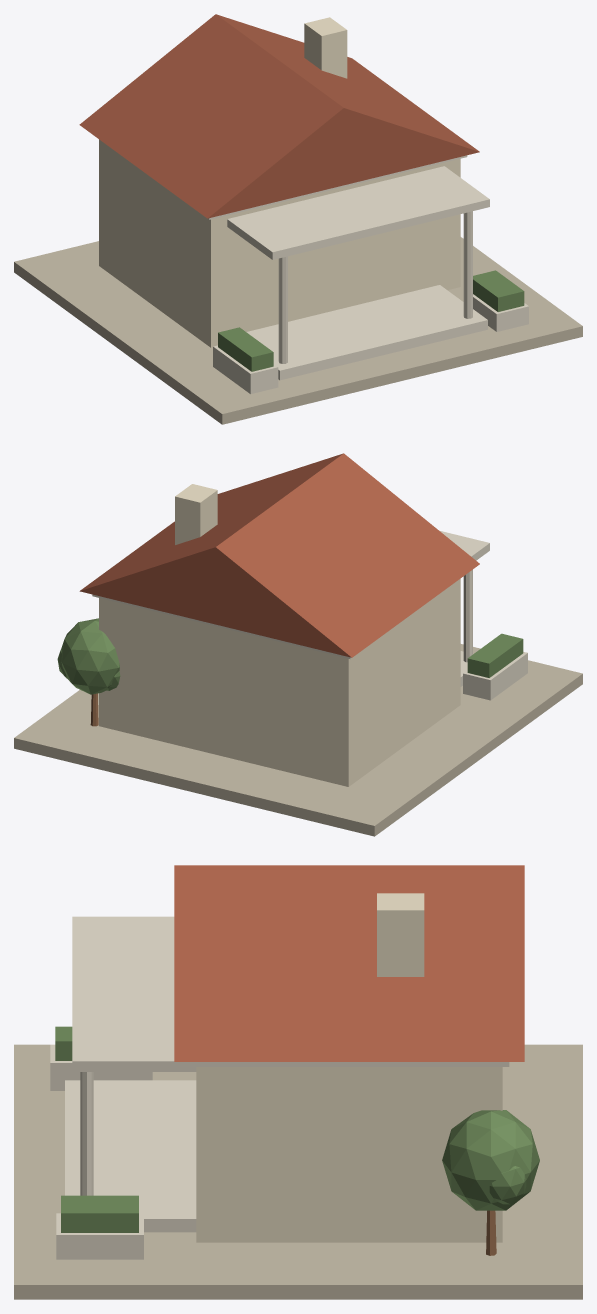
The model's file is cottage_lod.glb.
3 views of the same model, one above another, from view 1: azimuth 30°, elevation 25°; view 2: azimuth 150°, elevation 25°; view 3: azimuth 270°, elevation 25° (orthographic). The views are drawn at different scales.
Parts seen in each view (by area): view 1: cottage_Gable_Roof.002, cottage_Building_Volume.002, cottage_Site_Paving.002, cottage_Porch_Canopy.002, cottage_Porch_Deck.002, cottage_Chimney.002, cottage_Hedge.004, cottage_Raised_Planter.004, cottage_Hedge.005, cottage_Raised_Planter.005, cottage_Porch_Column.005, cottage_Porch_Column.004 (+1 smaller); view 2: cottage_Building_Volume.002, cottage_Gable_Roof.002, cottage_Site_Paving.002, cottage_Tree_Crown.006, cottage_Chimney.002, cottage_Hedge.004, cottage_Raised_Planter.004, cottage_Porch_Column.004, cottage_Roof_Coping.002, cottage_Porch_Canopy.002; view 3: cottage_Gable_Roof.002, cottage_Site_Paving.002, cottage_Building_Volume.002, cottage_Porch_Canopy.002, cottage_Porch_Deck.002, cottage_Tree_Crown.006, cottage_Chimney.002, cottage_Hedge.005, cottage_Raised_Planter.005, cottage_Porch_Column.005, cottage_Roof_Coping.002, cottage_Raised_Planter.004 (+2 smaller).
Boxes of the visible parts, x1,y1,x2,y2 form: cottage_Gable_Roof.002: [79, 14, 479, 218]; cottage_Building_Volume.002: [99, 139, 460, 347]; cottage_Site_Paving.002: [14, 237, 582, 424]; cottage_Porch_Canopy.002: [227, 166, 489, 259]; cottage_Porch_Deck.002: [246, 285, 487, 380]; cottage_Chimney.002: [304, 17, 347, 78]; cottage_Hedge.004: [218, 327, 273, 371]; cottage_Raised_Planter.004: [213, 345, 278, 394]; cottage_Hedge.005: [473, 270, 524, 311]; cottage_Raised_Planter.005: [473, 294, 528, 331]; cottage_Porch_Column.005: [463, 211, 472, 318]; cottage_Porch_Column.004: [278, 256, 287, 363]; cottage_Building_Volume.002: [99, 579, 460, 786]; cottage_Gable_Roof.002: [79, 453, 479, 657]; cottage_Site_Paving.002: [14, 644, 582, 836]; cottage_Tree_Crown.006: [61, 618, 119, 694]; cottage_Chimney.002: [175, 484, 217, 544]; cottage_Hedge.004: [467, 633, 523, 677]; cottage_Raised_Planter.004: [463, 652, 527, 700]; cottage_Porch_Column.004: [463, 569, 472, 662]; cottage_Roof_Coping.002: [92, 594, 351, 658]; cottage_Porch_Canopy.002: [439, 530, 489, 560]; cottage_Gable_Roof.002: [174, 865, 524, 1061]; cottage_Site_Paving.002: [14, 1044, 582, 1299]; cottage_Building_Volume.002: [196, 1067, 502, 1242]; cottage_Porch_Canopy.002: [72, 916, 196, 1071]; cottage_Porch_Deck.002: [65, 1080, 196, 1232]; cottage_Tree_Crown.006: [442, 1110, 539, 1210]; cottage_Chimney.002: [377, 893, 424, 976]; cottage_Hedge.005: [61, 1195, 138, 1232]; cottage_Raised_Planter.005: [56, 1213, 143, 1259]; cottage_Porch_Column.005: [80, 1072, 93, 1195]; cottage_Roof_Coping.002: [189, 1062, 509, 1066]; cottage_Raised_Planter.004: [50, 1044, 152, 1090].
Size of the model in its own units: 7.8 by 4.85 by 7.8.
